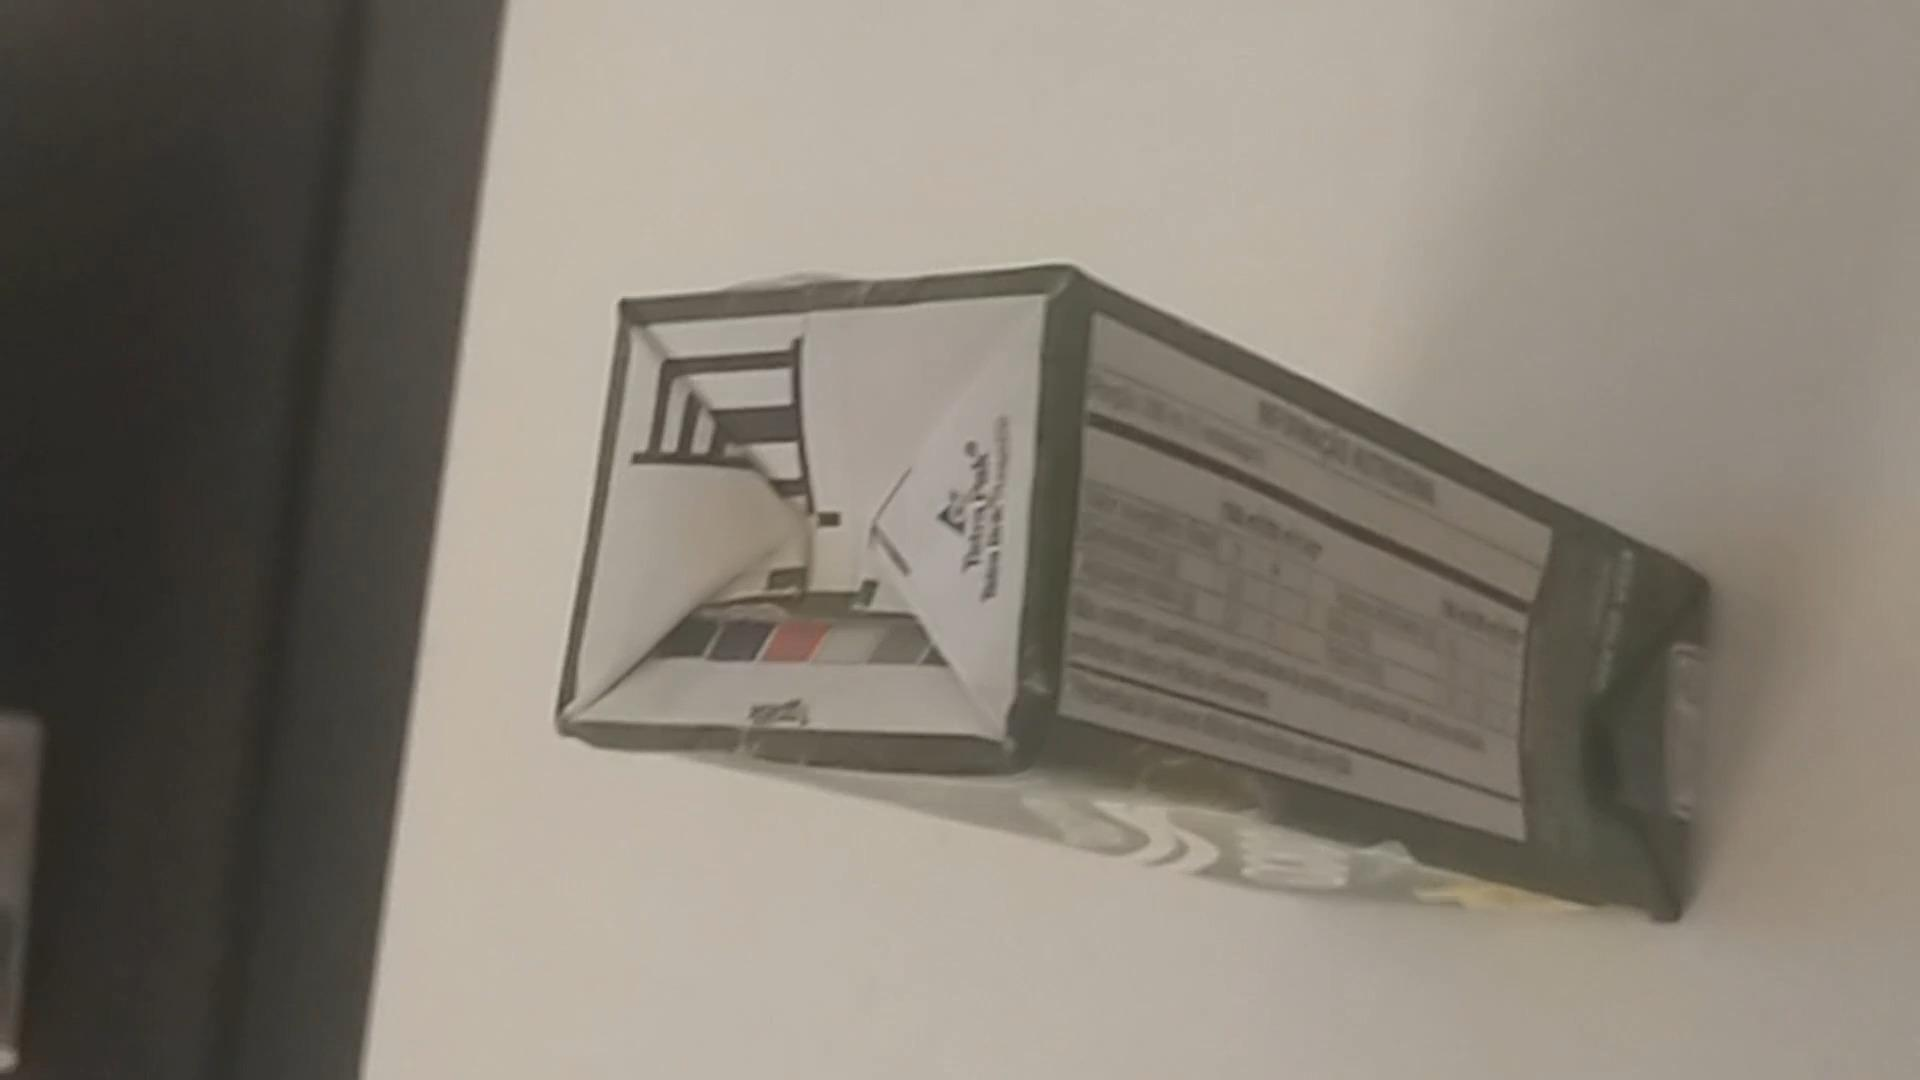coco: (558, 248, 1730, 940)
